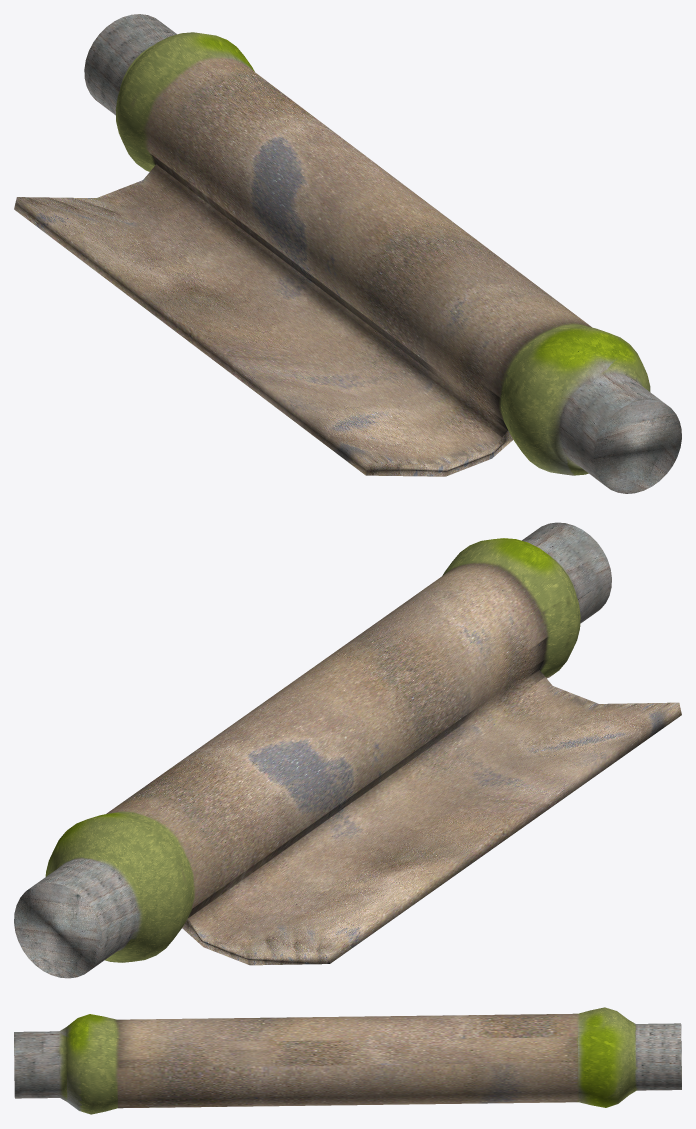
The model's file is parchment.fbx.
3 views of the same model, one above another, from view 1: azimuth 30°, elevation 25°; view 2: azimuth 150°, elevation 25°; view 3: azimuth 270°, elevation 25° (orthographic). The views are drawn at different scales.
Visible parts, largest first — view 1: Cylinder; view 2: Cylinder; view 3: Cylinder.
Part boxes in pixels (left/top/right/bottom): Cylinder: left=14, top=14, right=681, bottom=493; Cylinder: left=14, top=522, right=681, bottom=978; Cylinder: left=14, top=1007, right=681, bottom=1114.
Size of the model in its own units: 21.55 by 11.85 by 73.2.
Materials: 1 (1 with a texture image).
